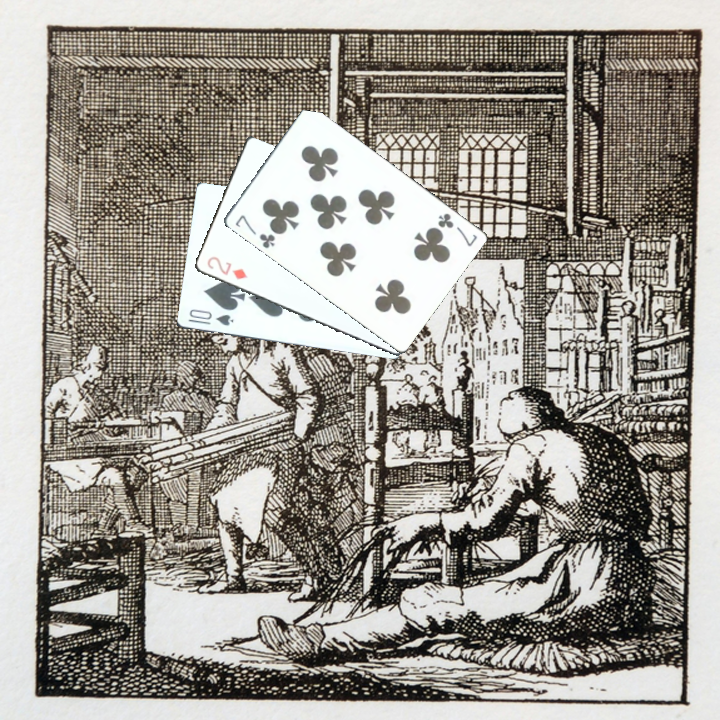10s: (185, 305, 236, 328)
2d: (203, 252, 250, 282)
7c: (231, 211, 278, 251), (434, 209, 480, 249)
